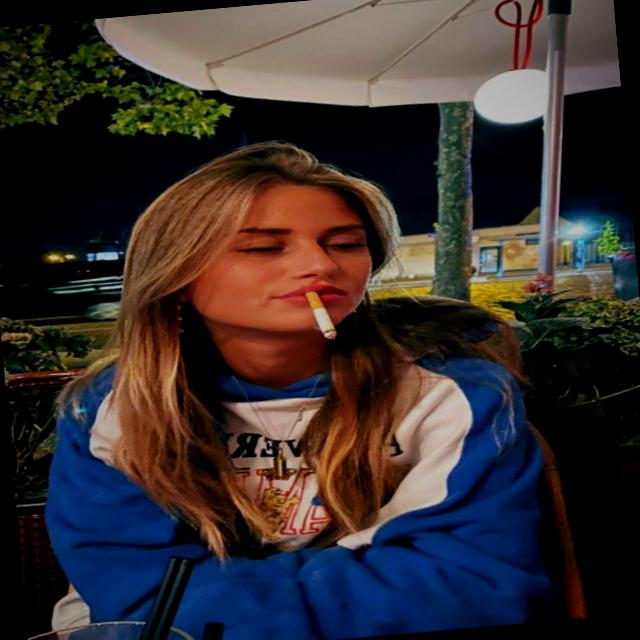cigarette: (272, 277, 374, 359)
